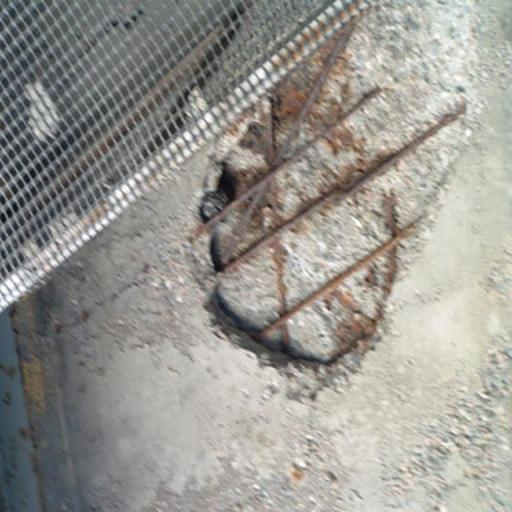spalling: (190, 20, 473, 371)
